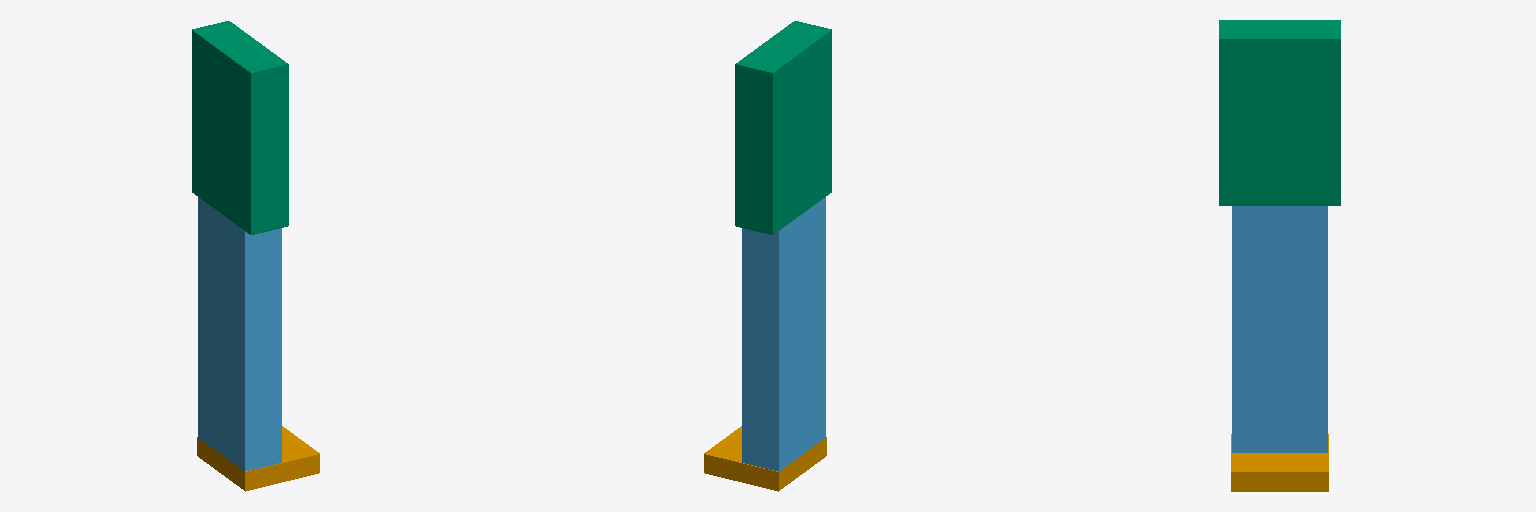
URDF robot description (threeLinkHuman_subject8):
<robot name="threeLinkHuman_subject8">
    <link name="foot">
        <inertial>
            <mass value="6.7866"/>
            <origin xyz="0 0 0.032454" rpy="0 0 0" />
            <inertia ixx="0.050977" iyy="0.041644" izz="0.087855" ixy="0" ixz="0" iyz="0"/>
        </inertial>

        <visual>
			<origin xyz="0 0 0.032454" rpy="0 0 0" />
            <geometry>
                <box size="0.26348 0.29313 0.064908"/>
            </geometry>
        </visual>

        <collision>
			<origin xyz="0 0 0.032454" rpy="0 0 0" />
            <geometry>
                <box size="0.26348 0.29313 0.064908"/>
            </geometry>
        </collision>
    </link>
    
    <link name="leg">
        <inertial>
            <mass value="41.4257"/>
            <origin xyz="0 0 0.40408" rpy="0 0 0" />
            <inertia ixx="2.5398" iyy="2.3146" izz="0.34508" ixy="0" ixz="0" iyz="0"/>
        </inertial>

        <visual>
            <origin xyz="0 0 0.40408" rpy="0 0 0" />
            <geometry>
                <box size="0.13174 0.28741 0.80816"/>
            </geometry>
        </visual>

        <collision>
            <origin xyz="0 0 0.40408" rpy="0 0 0" />
            <geometry>
                <box size="0.13174 0.28741 0.80816"/>
            </geometry>
        </collision>
    </link>
    
    <link name="torso">
        <inertial>
            <mass value="35.2014"/>
            <origin xyz="0 0 0.27227" rpy="0 0 0" />
            <inertia ixx="1.2552" iyy="0.92074" izz="0.43631" ixy="0" ixz="0" iyz="0"/>
        </inertial>

        <visual>
            <origin xyz="0 0 0.27227" rpy="0 0 0" />
            <geometry>
                <box size="0.13174 0.36246 0.54454"/>
            </geometry>
        </visual>

        <collision>
            <origin xyz="0 0 0.27227" rpy="0 0 0" />
            <geometry>
                <box size="0.13174 0.36246 0.54454"/>
            </geometry>
        </collision>
    </link>
        
    <joint name="ankle" type="revolute">
        <origin xyz="-0.06587 0 0.064908" rpy="0 0 0"/>
        <parent link="foot"/>
        <child link="leg"/>
        <dynamics damping="0.1" friction="0.0"/>
        <limit effort="30" velocity="1.0" lower="-10.0" upper="10.0" />
        <axis xyz="0 1 0" />
    </joint>
    
    <joint name="hip" type="revolute">
        <origin xyz="0 0 0.80816" rpy="0 0 0"/>
        <parent link="leg"/>
        <child link="torso"/>
        <dynamics damping="0.1" friction="0.0"/>
        <limit effort="30" velocity="1.0" lower="-10.0" upper="10.0" />
        <axis xyz="0 1 0" />
    </joint>

</robot>

--- What the picture shows (computed from the rendered views, not written in the file) ---
The picture shows the robot from 3 angles, left to right: view 1: azimuth 30°, elevation 25°; view 2: azimuth 150°, elevation 25°; view 3: azimuth 270°, elevation 25°; orthographic projection.
Robot: threeLinkHuman_subject8 — 3 links, 2 joints (2 revolute); root link foot; default pose: all joints at 0.
Visible links, largest first — view 1: leg, torso, foot; view 2: leg, torso, foot; view 3: leg, torso, foot.
Link boxes in pixels (x1,y1,x2,y2): leg: (198,197,281,471); torso: (192,21,288,234); foot: (197,426,319,491); leg: (742,197,825,471); torso: (735,21,831,234); foot: (704,426,826,491); leg: (1232,206,1327,452); torso: (1219,20,1340,205); foot: (1231,434,1328,491).
Bounding box of the posed robot: 0.2635 × 0.3625 × 1.42 m (x, y, z).
Geometry: primitives only (box / cylinder / sphere), no mesh files.
